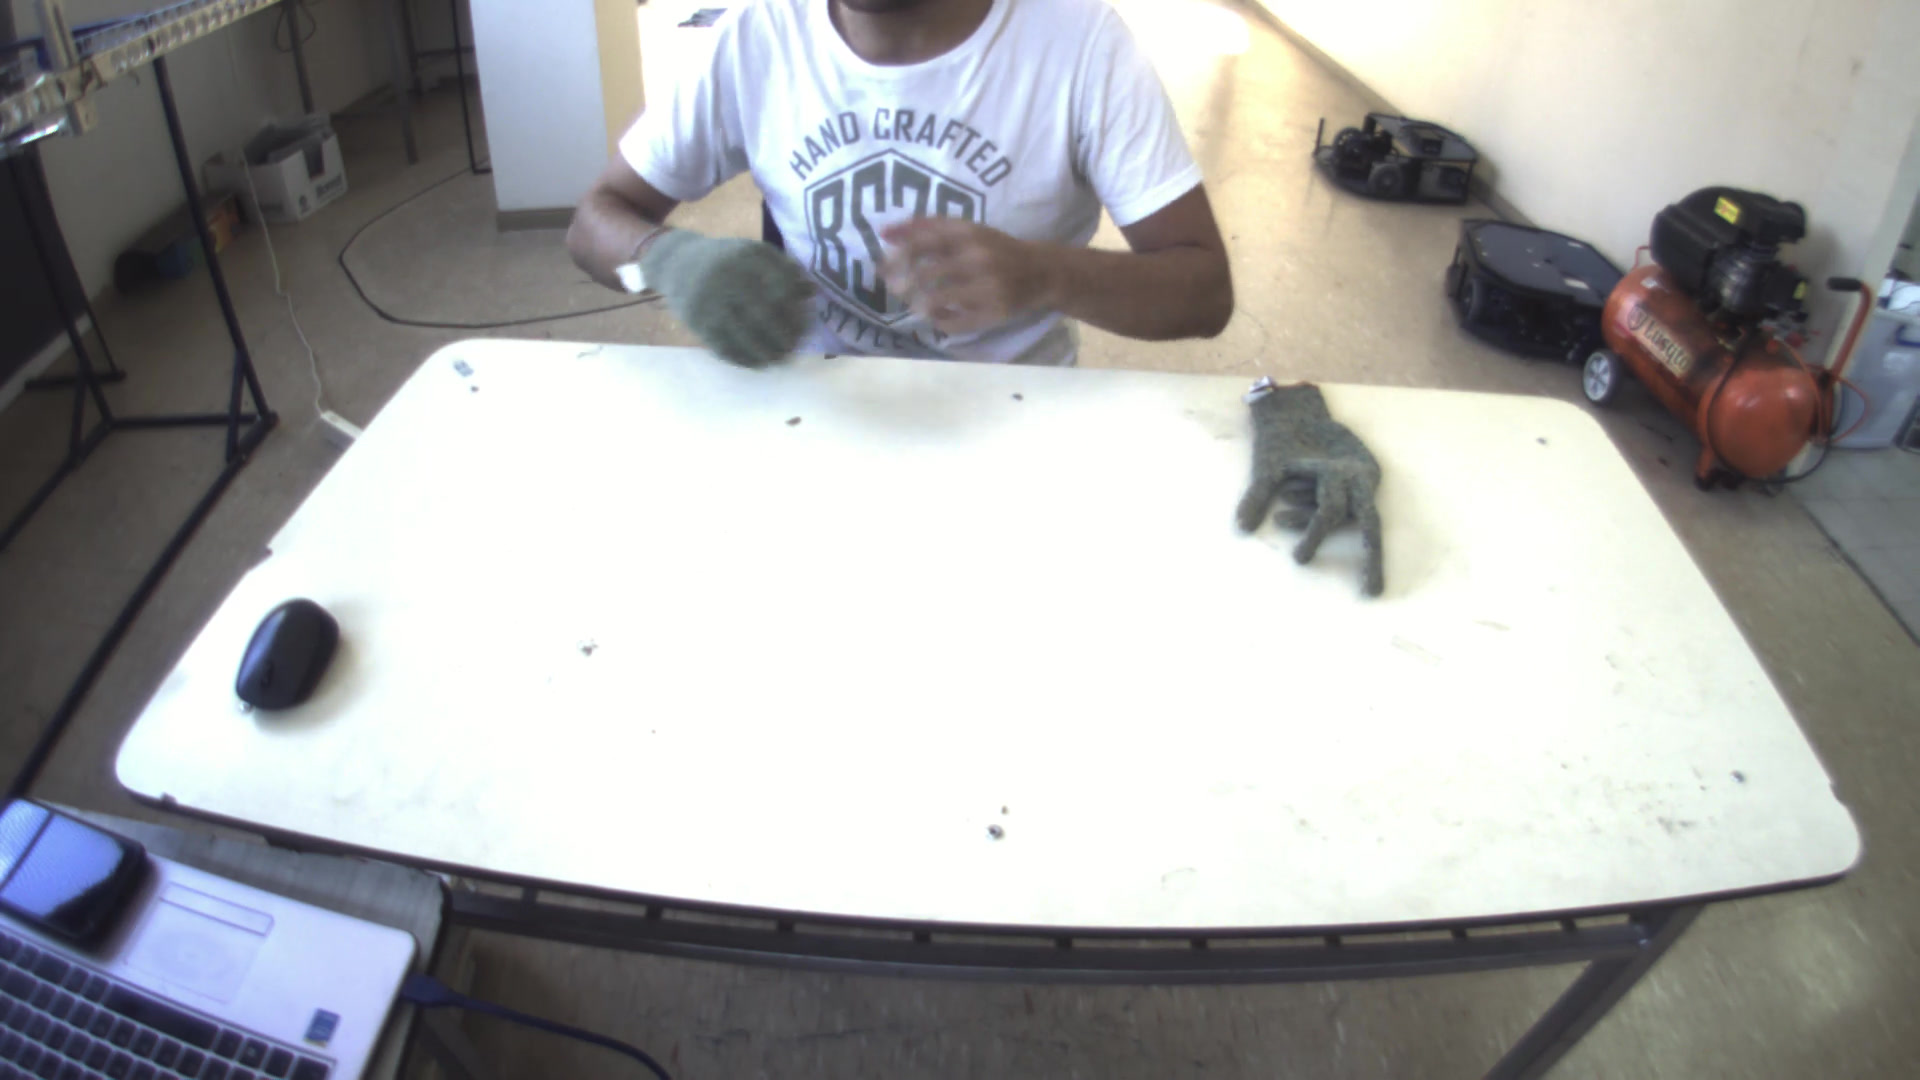hand: (620, 223, 822, 363), (851, 208, 1052, 335)
